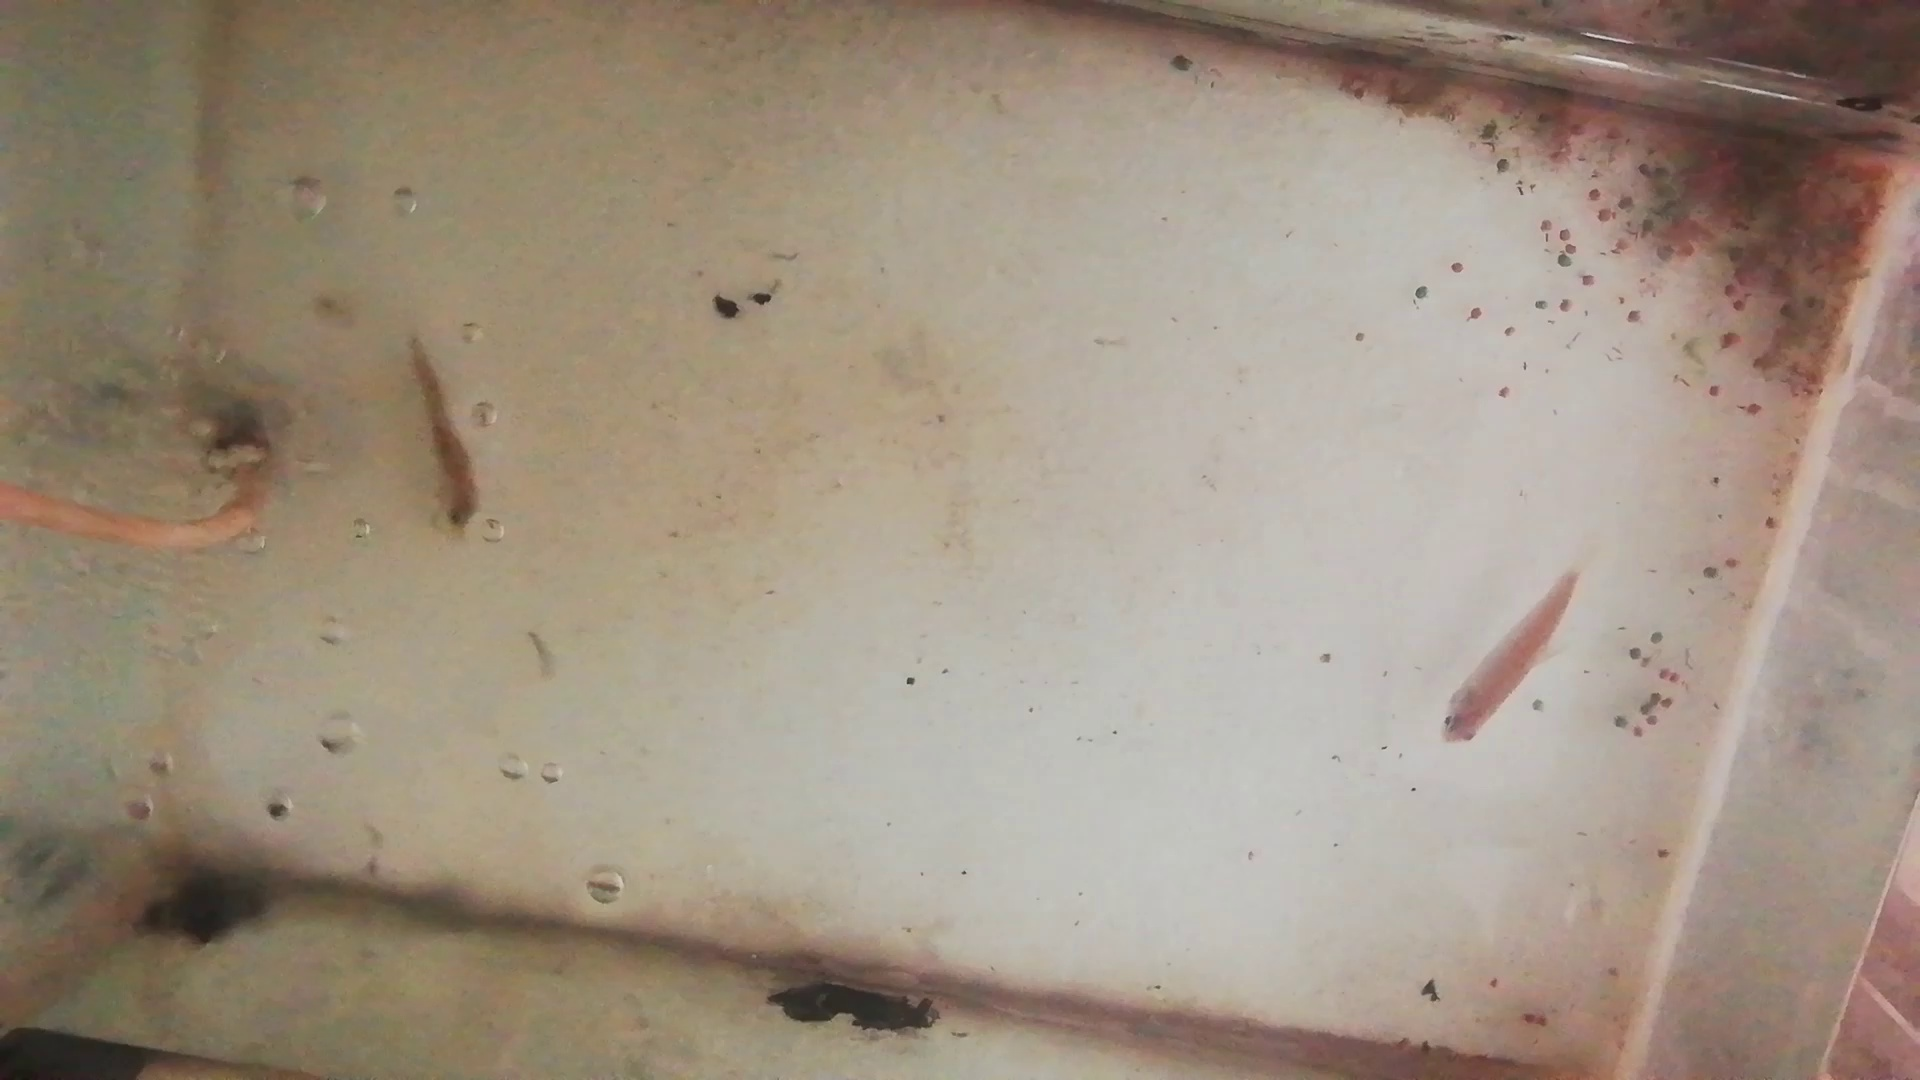fish: (1436, 559, 1582, 745), (402, 335, 487, 534)
